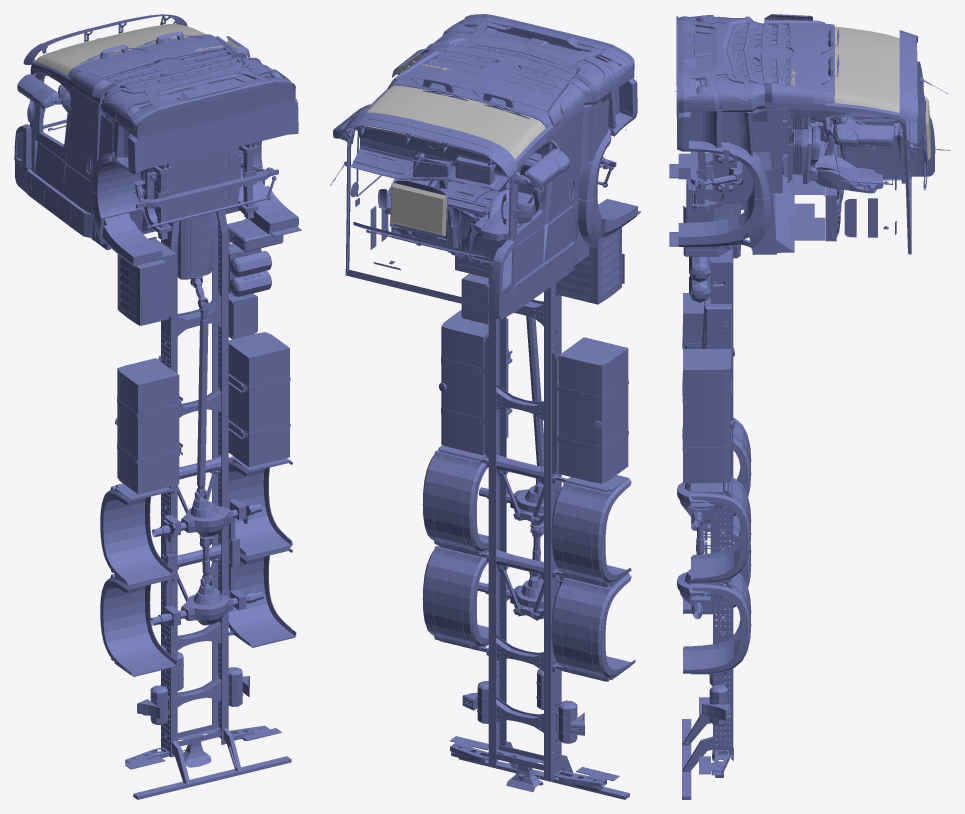
File: Mercedes Actros 2017_6848_autosaveデシメート50 _12296_autosave2.glb
The picture shows the model from 3 angles, left to right: view 1: azimuth 30°, elevation 25°; view 2: azimuth 150°, elevation 25°; view 3: azimuth 270°, elevation 25°; orthographic projection. The views are drawn at different scales.
Parts seen in each view (by area): view 1: polySurface7063, pCube759, pCube760, polySurface7062, polySurface6996, polySurface6761, polySurface6348, pPlane1023, polySurface7025, polySurface7060, pCube478, pCube753 (+36 smaller); view 2: polySurface7063, polySurface7062, pCube759, polySurface6996, pCube760, polySurface7025, polySurface6320, pPlane417, pCube478, pPlane1087, polySurface7060, polySurface6319 (+38 smaller); view 3: polySurface7062, pCube760, polySurface6320, polySurface6996, pPlane548, pPlane231, polySurface6761, pCube926, pPlane1290, polySurface6245, pPlane71, polySurface6273 (+29 smaller).
Part boxes in pixels (bbox=[...]): polySurface7063: bbox=[100, 483, 177, 676]; pCube759: bbox=[115, 355, 182, 494]; pCube760: bbox=[218, 332, 290, 467]; polySurface7062: bbox=[228, 456, 296, 647]; polySurface6996: bbox=[212, 210, 228, 744]; polySurface6761: bbox=[134, 143, 278, 239]; polySurface6348: bbox=[134, 98, 217, 173]; pPlane1023: bbox=[217, 84, 298, 151]; polySurface7025: bbox=[161, 221, 179, 757]; polySurface7060: bbox=[117, 236, 176, 325]; pCube478: bbox=[32, 69, 113, 182]; pCube753: bbox=[140, 147, 238, 231]; polySurface7063: bbox=[551, 474, 635, 681]; polySurface7062: bbox=[422, 445, 497, 655]; pCube759: bbox=[552, 337, 628, 483]; polySurface6996: bbox=[488, 265, 506, 768]; pCube760: bbox=[439, 309, 512, 457]; polySurface7025: bbox=[544, 283, 561, 781]; polySurface6320: bbox=[352, 85, 545, 159]; pPlane417: bbox=[348, 126, 508, 190]; pCube478: bbox=[508, 99, 608, 245]; pPlane1087: bbox=[492, 239, 574, 319]; polySurface7060: bbox=[556, 227, 624, 304]; polySurface6319: bbox=[340, 112, 517, 177]; polySurface7062: bbox=[683, 475, 751, 674]; pCube760: bbox=[682, 345, 734, 483]; polySurface6320: bbox=[834, 26, 899, 112]; polySurface6996: bbox=[713, 204, 734, 754]; pPlane548: bbox=[787, 125, 883, 193]; pPlane231: bbox=[728, 109, 782, 193]; polySurface6761: bbox=[690, 151, 742, 216]; pCube926: bbox=[689, 247, 732, 304]; pPlane1290: bbox=[731, 25, 793, 84]; polySurface6245: bbox=[789, 23, 821, 90]; pPlane71: bbox=[677, 109, 727, 154]; polySurface6273: bbox=[782, 120, 904, 180].
Size of the model in its own units: 7.48 by 25.16 by 8.97.
